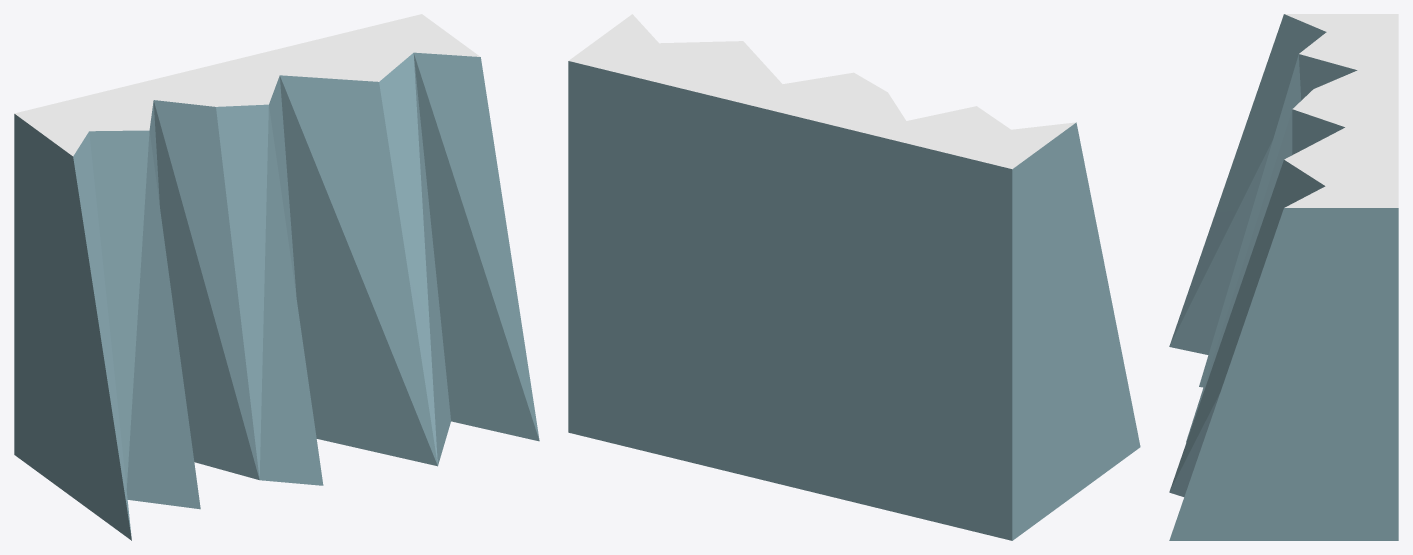
The model's file is Terrain_Modular_Tiles_Snow_Ice_Cliff_Side_Outer_02.fbx.
3 renders of one model, left to right at view 1: azimuth 30°, elevation 25°; view 2: azimuth 150°, elevation 25°; view 3: azimuth 270°, elevation 25°, orthographic. The views are drawn at different scales.
Parts seen in each view (by area): view 1: Terrain_Modular_Tiles_Snow_Ice_Cliff_Side_Outer_02; view 2: Terrain_Modular_Tiles_Snow_Ice_Cliff_Side_Outer_02; view 3: Terrain_Modular_Tiles_Snow_Ice_Cliff_Side_Outer_02.
Boxes of the visible parts, bbox=[...] form: Terrain_Modular_Tiles_Snow_Ice_Cliff_Side_Outer_02: bbox=[14, 14, 539, 540]; Terrain_Modular_Tiles_Snow_Ice_Cliff_Side_Outer_02: bbox=[568, 14, 1140, 540]; Terrain_Modular_Tiles_Snow_Ice_Cliff_Side_Outer_02: bbox=[1169, 14, 1398, 540].
Size of the model in its own units: 3000 by 2400 by 1500.
